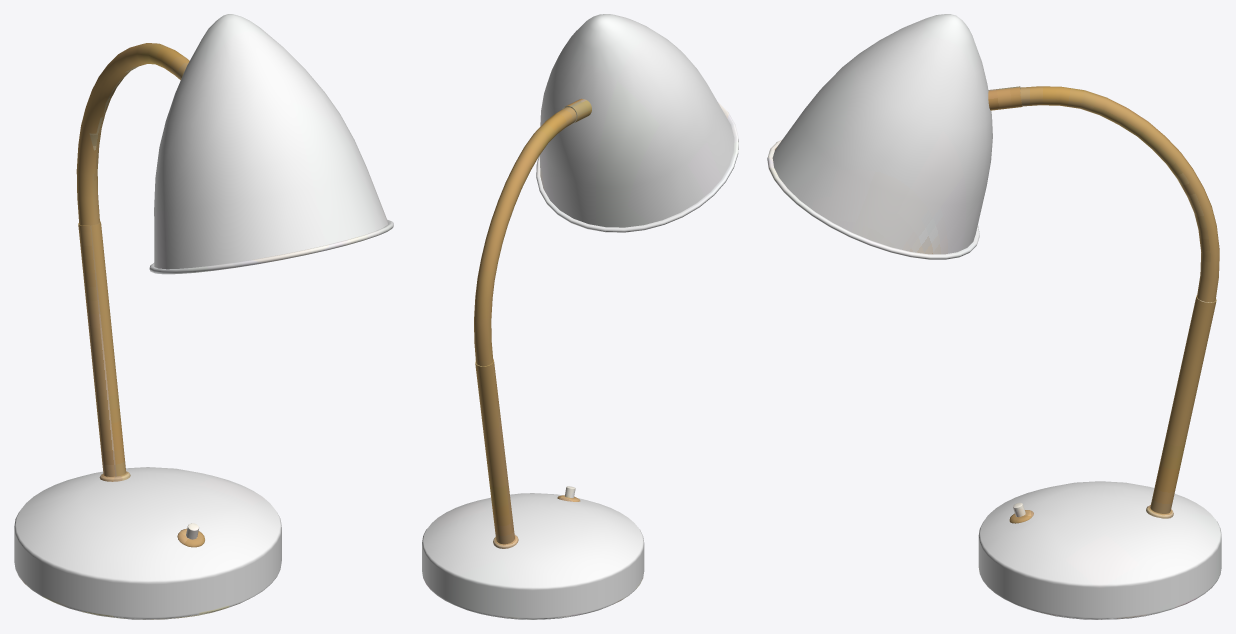
3 views of the same model, side by side, from view 1: azimuth 30°, elevation 25°; view 2: azimuth 150°, elevation 25°; view 3: azimuth 270°, elevation 25° (orthographic). The views are drawn at different scales.
Visible parts, largest first — view 1: Mesh_0; view 2: Mesh_0; view 3: Mesh_0.
Part boxes in pixels (x1,y1,x2,y2): Mesh_0: (14,14,393,619); Mesh_0: (422,14,738,619); Mesh_0: (767,14,1221,619).
Size of the model in its own units: 0.14 by 0.3525 by 0.2618.
1 material, 1 textured.
